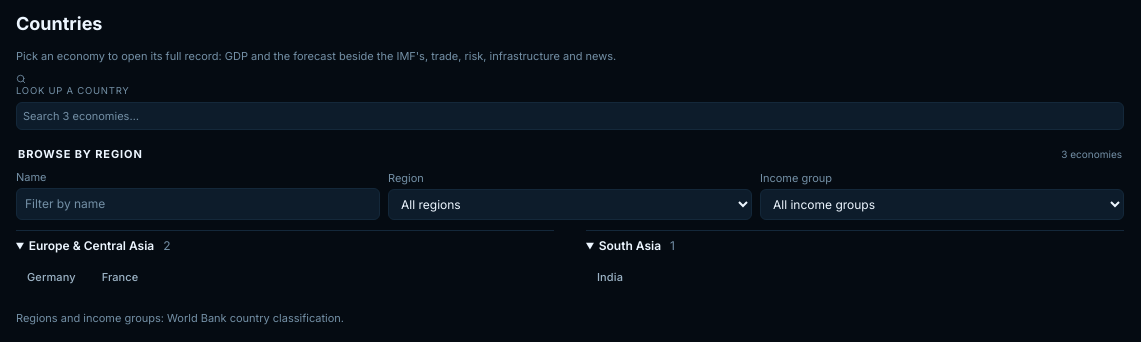
Test: CountriesLanding › narrows the list by income group, region and name, and clears again
The width and height of the screenshot is (1141, 342).
Select "High income" in the dropdown labelled "Income group" at (942, 205), box [760,189,1124,220]
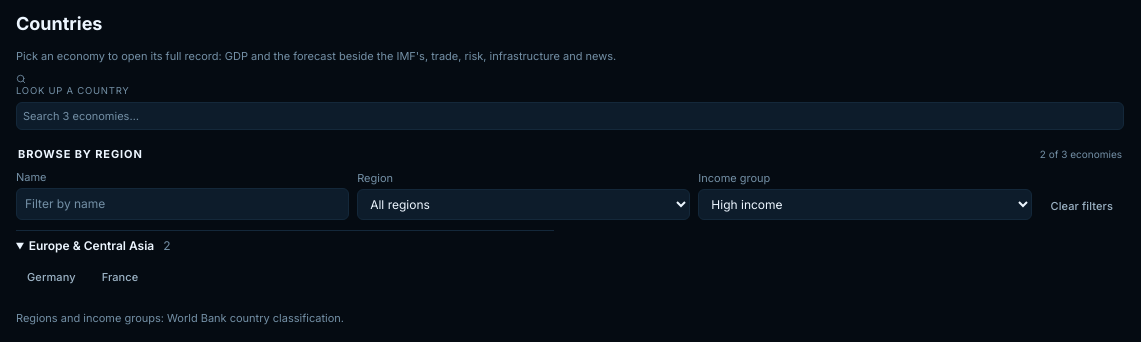
expect the button "France" is shown: met, box [91,263,149,292]
expect the button "India" is gone: met
expect the text "2 of 3 economies" is shown: met, box [1040,147,1122,162]
Type "ger" into the search field labelled "Name" at (183, 204), box [16,188,349,220]
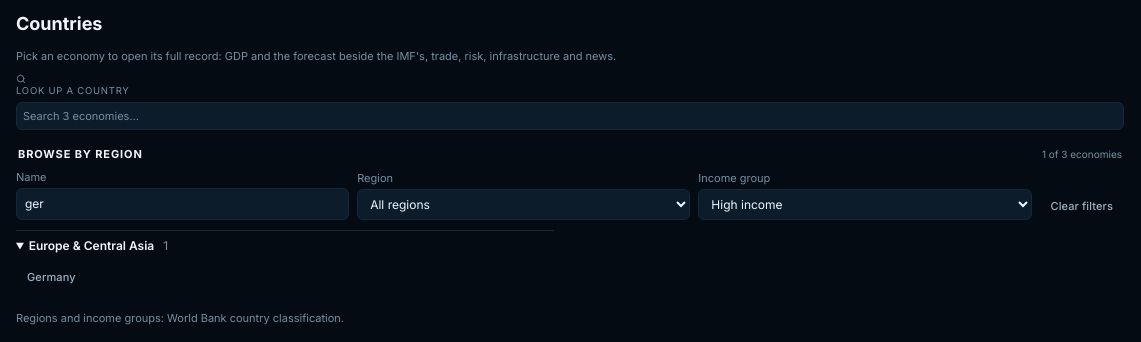
expect the button "Germany" is shown: met, box [16,263,87,292]
expect the button "France" is gone: met
Select "South Asia" in the dropdown labelled "Region" at (524, 205), box [357,189,690,220]
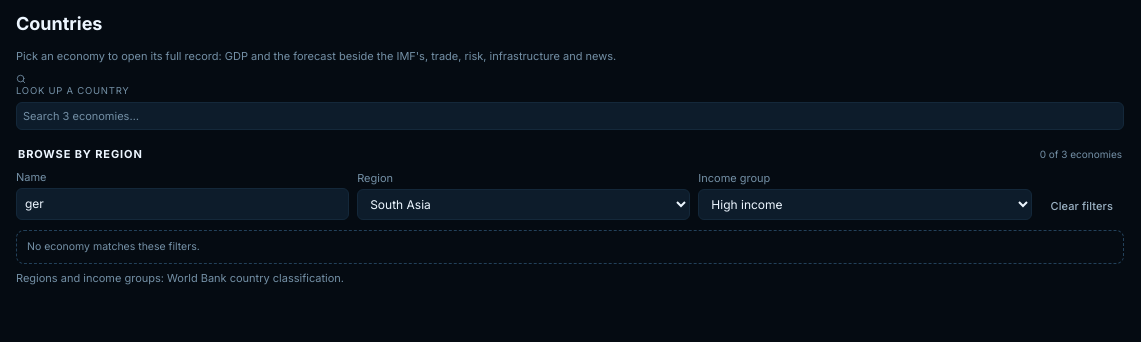
expect the text "No economy matches these filters." is shown: met, box [16,230,1124,264]
Click the button "Clear filters" at (1082, 206), box [1040,192,1124,220]
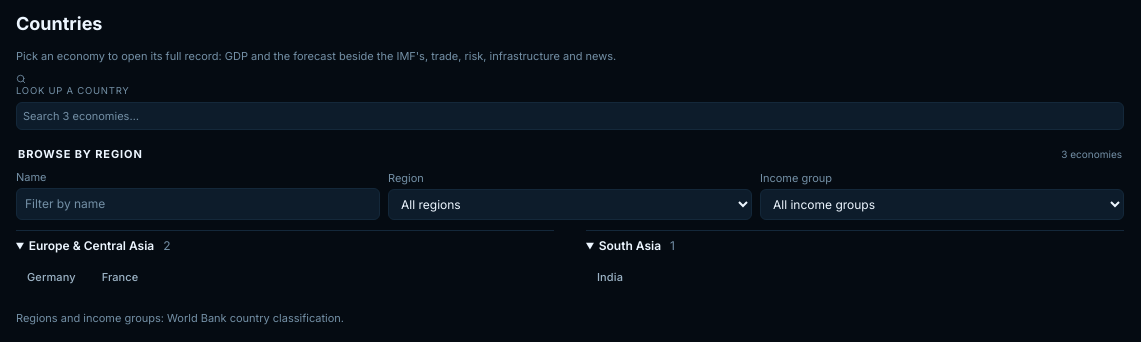
expect the button "India" is shown: met, box [586,263,634,292]
